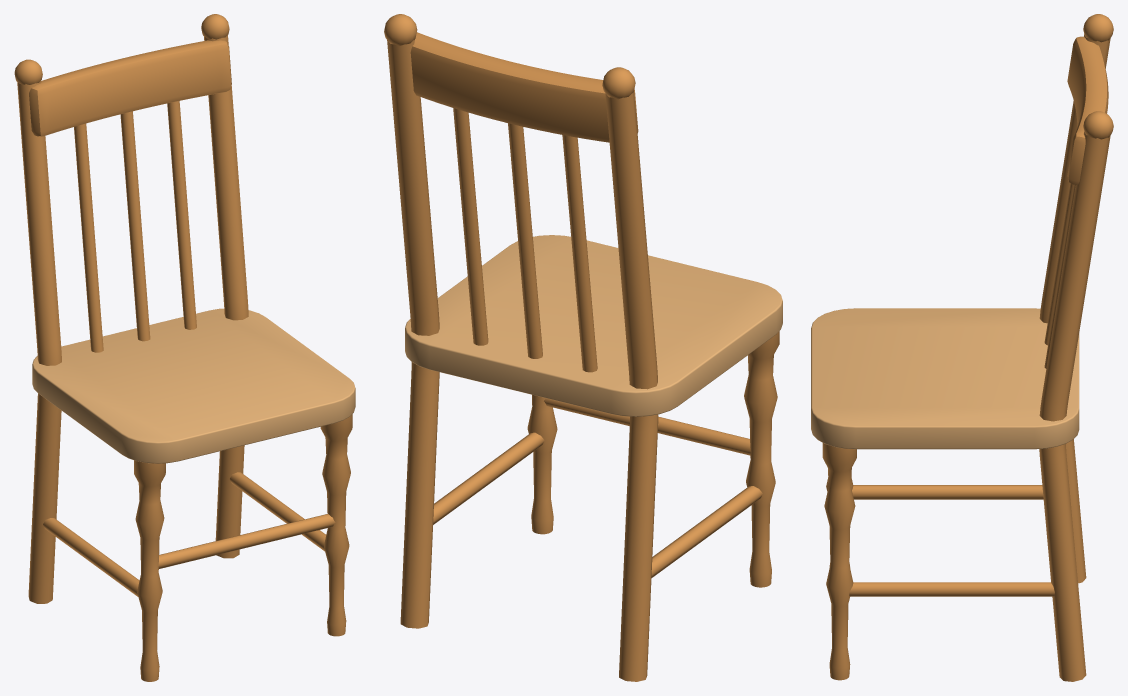
File: cadeira_cozinha_madeira.glb
3 renders of one model, left to right at view 1: azimuth 30°, elevation 25°; view 2: azimuth 150°, elevation 25°; view 3: azimuth 270°, elevation 25°, orthographic. The views are drawn at different scales.
Parts seen in each view (by area): view 1: cadeira_cozinha_madeira; view 2: cadeira_cozinha_madeira; view 3: cadeira_cozinha_madeira.
Part boxes in pixels (bbox=[...]): cadeira_cozinha_madeira: bbox=[14, 14, 355, 681]; cadeira_cozinha_madeira: bbox=[384, 14, 782, 681]; cadeira_cozinha_madeira: bbox=[811, 14, 1113, 681].
Size of the model in its own units: 0.44 by 0.9757 by 0.474.
Materials: 1 (1 with a texture image).
